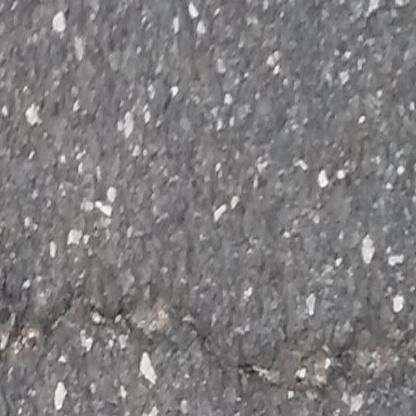Cracks: (0, 272, 416, 416)
